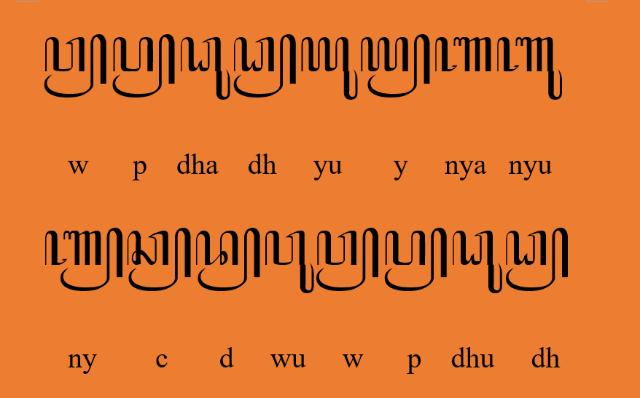-c: (126, 228, 192, 294)
-d: (195, 228, 261, 292)
-dh: (506, 227, 570, 293), (234, 33, 296, 99)
-ny: (44, 228, 124, 292)
-p: (384, 226, 448, 292), (112, 33, 176, 98)
-w: (316, 227, 379, 294), (44, 33, 108, 98)
-y: (361, 34, 432, 98)
dhu: (180, 35, 230, 100), (452, 230, 502, 294)
ny1: (435, 36, 493, 74)
nyu1: (496, 35, 564, 100)
wu: (264, 230, 316, 296)
yu: (301, 36, 359, 100)
